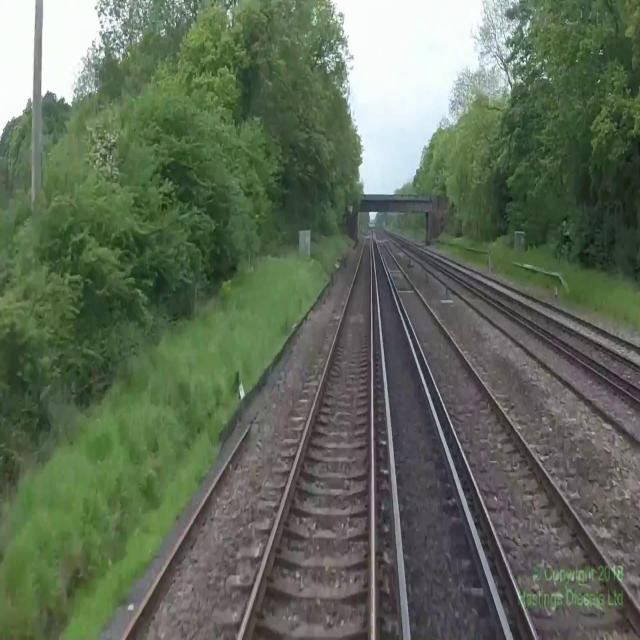rail-track: (378, 241, 640, 639), (241, 229, 370, 639), (386, 232, 640, 437)
